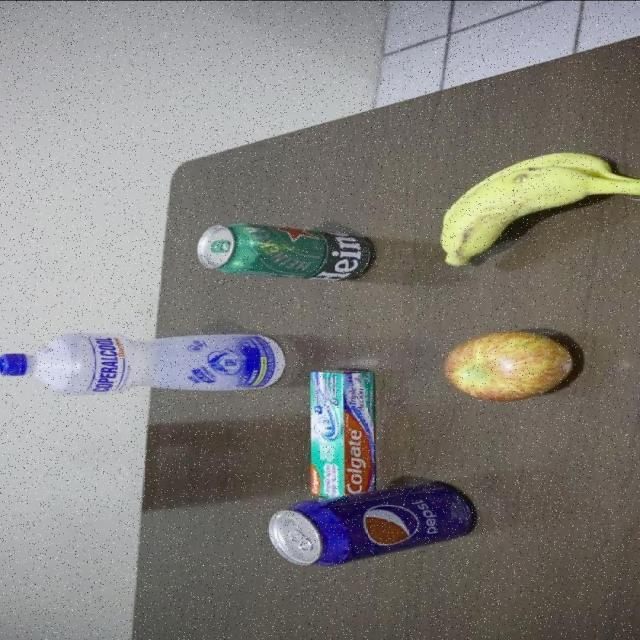AlcoholBottle: (0, 331, 287, 397)
Apple: (443, 330, 576, 404)
Banana: (437, 149, 640, 268)
BeerCan: (195, 221, 374, 282)
SodaCan: (266, 482, 481, 566)
Toothpaste: (308, 369, 374, 498)
